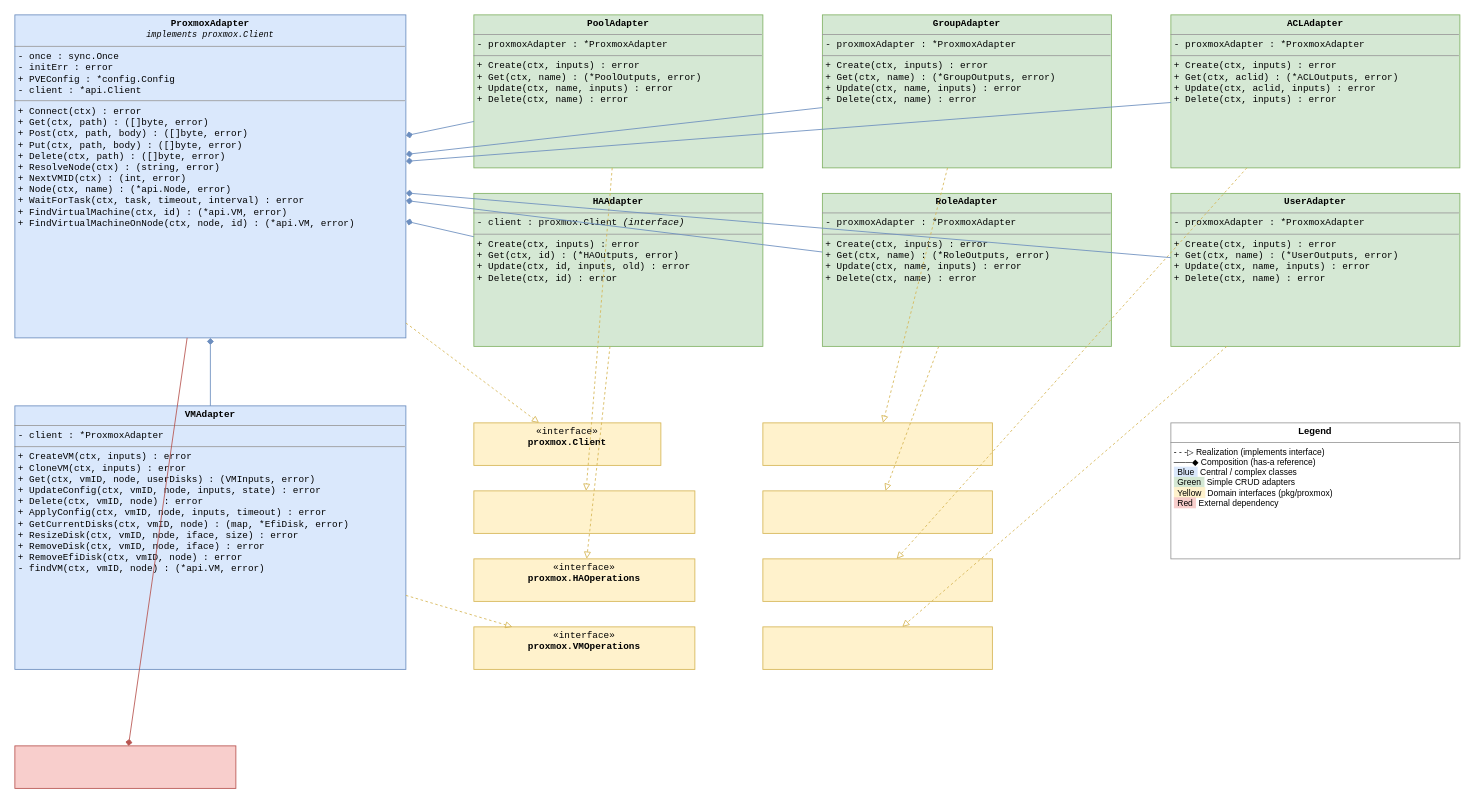
The diagram is 1475 pixels wide and 803 high, and some of its shapes have lost their labels. Here are the shapes that lost their labels. From the top down, the centre of each, then its label:
At point (877, 443): "«interface» proxmox.GroupOperations".
At point (584, 511): "«interface» proxmox.PoolOperations".
At point (877, 511): "«interface» proxmox.RoleOperations".
At point (877, 579): "«interface» proxmox.ACLOperations".
At point (877, 647): "«interface» proxmox.UserOperations".
At point (125, 766): "«external» go-proxmox api.Client".
